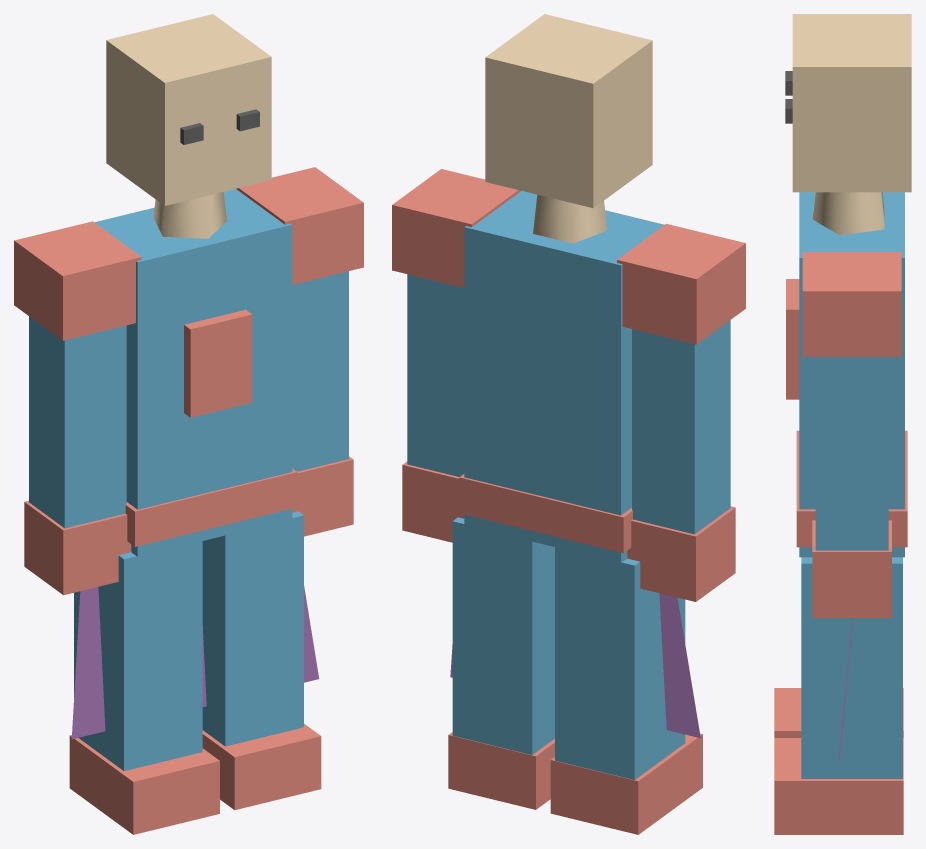
The model's file is hero.glb.
3 renders of one model, left to right at view 1: azimuth 30°, elevation 25°; view 2: azimuth 150°, elevation 25°; view 3: azimuth 270°, elevation 25°, orthographic.
Size of the model in its own units: 1.07 by 2.5 by 0.4165.
